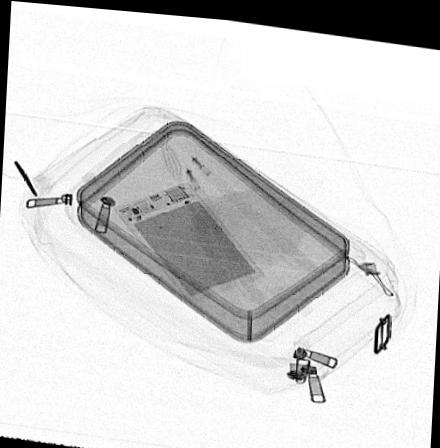Powerbank: (112, 179, 267, 298)
